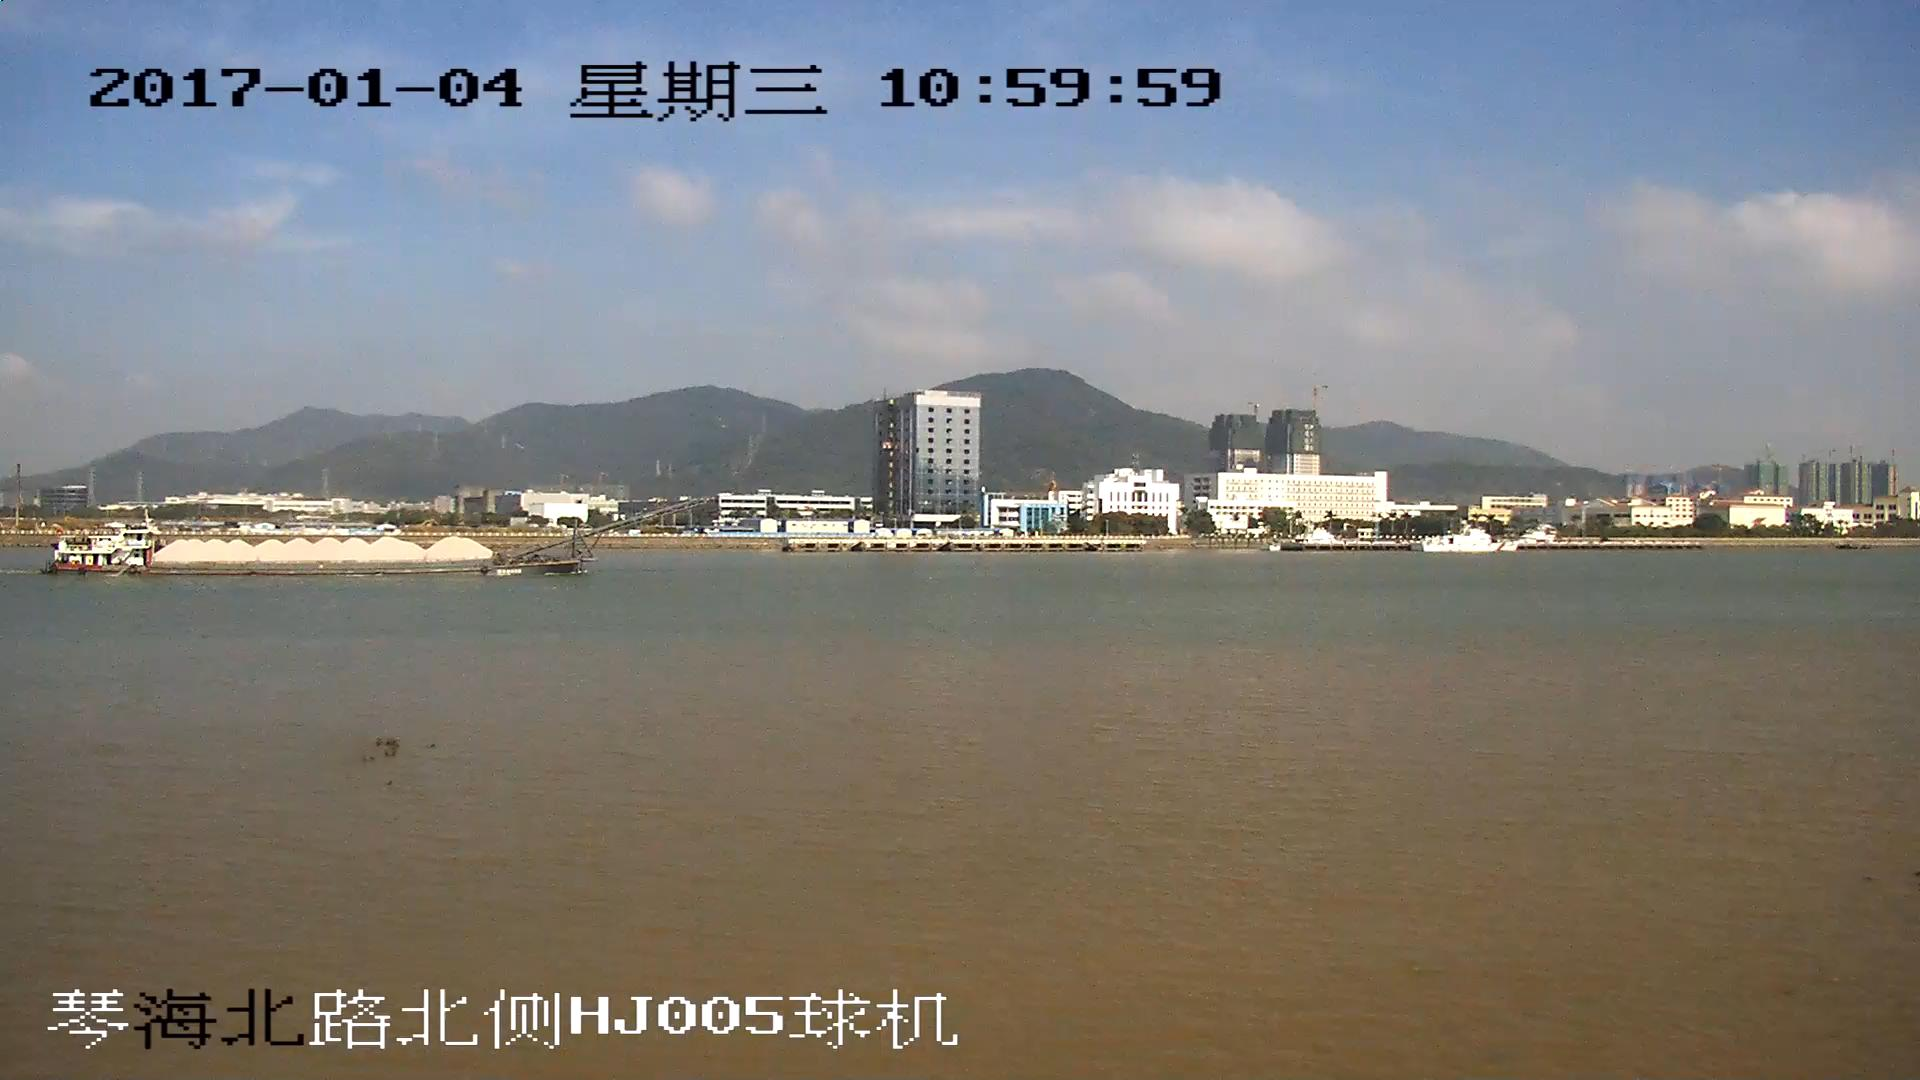ore carrier: (51, 495, 714, 577)
